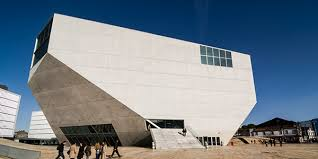musica: (27, 12, 258, 146)
